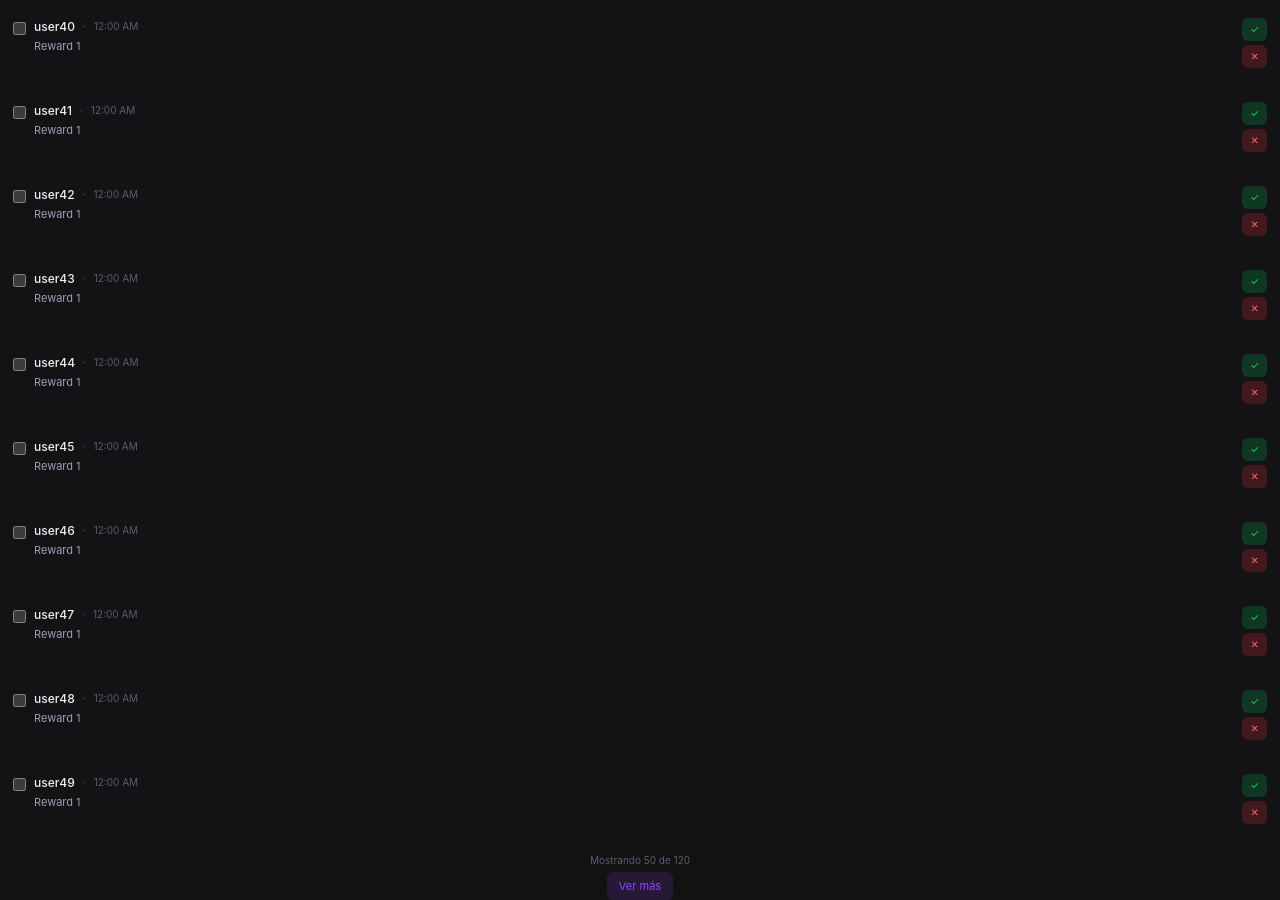
FIX 4: PendingRedemptions — paginacion › click en "Ver mas" carga 50 mas
(page scrolled)
Click the button "Ver más": coordinates (640, 886) [607, 872, 673, 899]
(page scrolled)
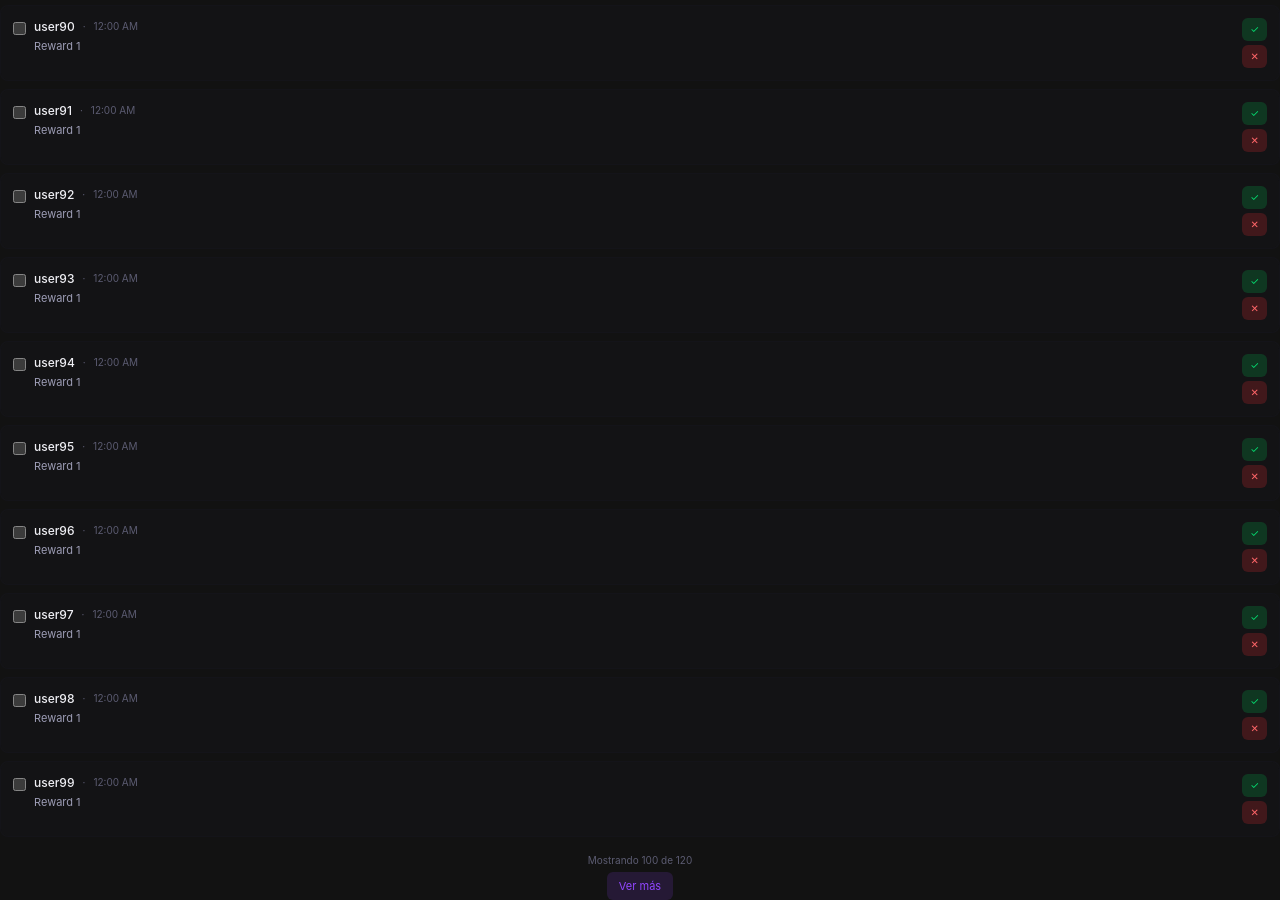
expect the text "user99" is shown: met, box [34, 774, 74, 792]
